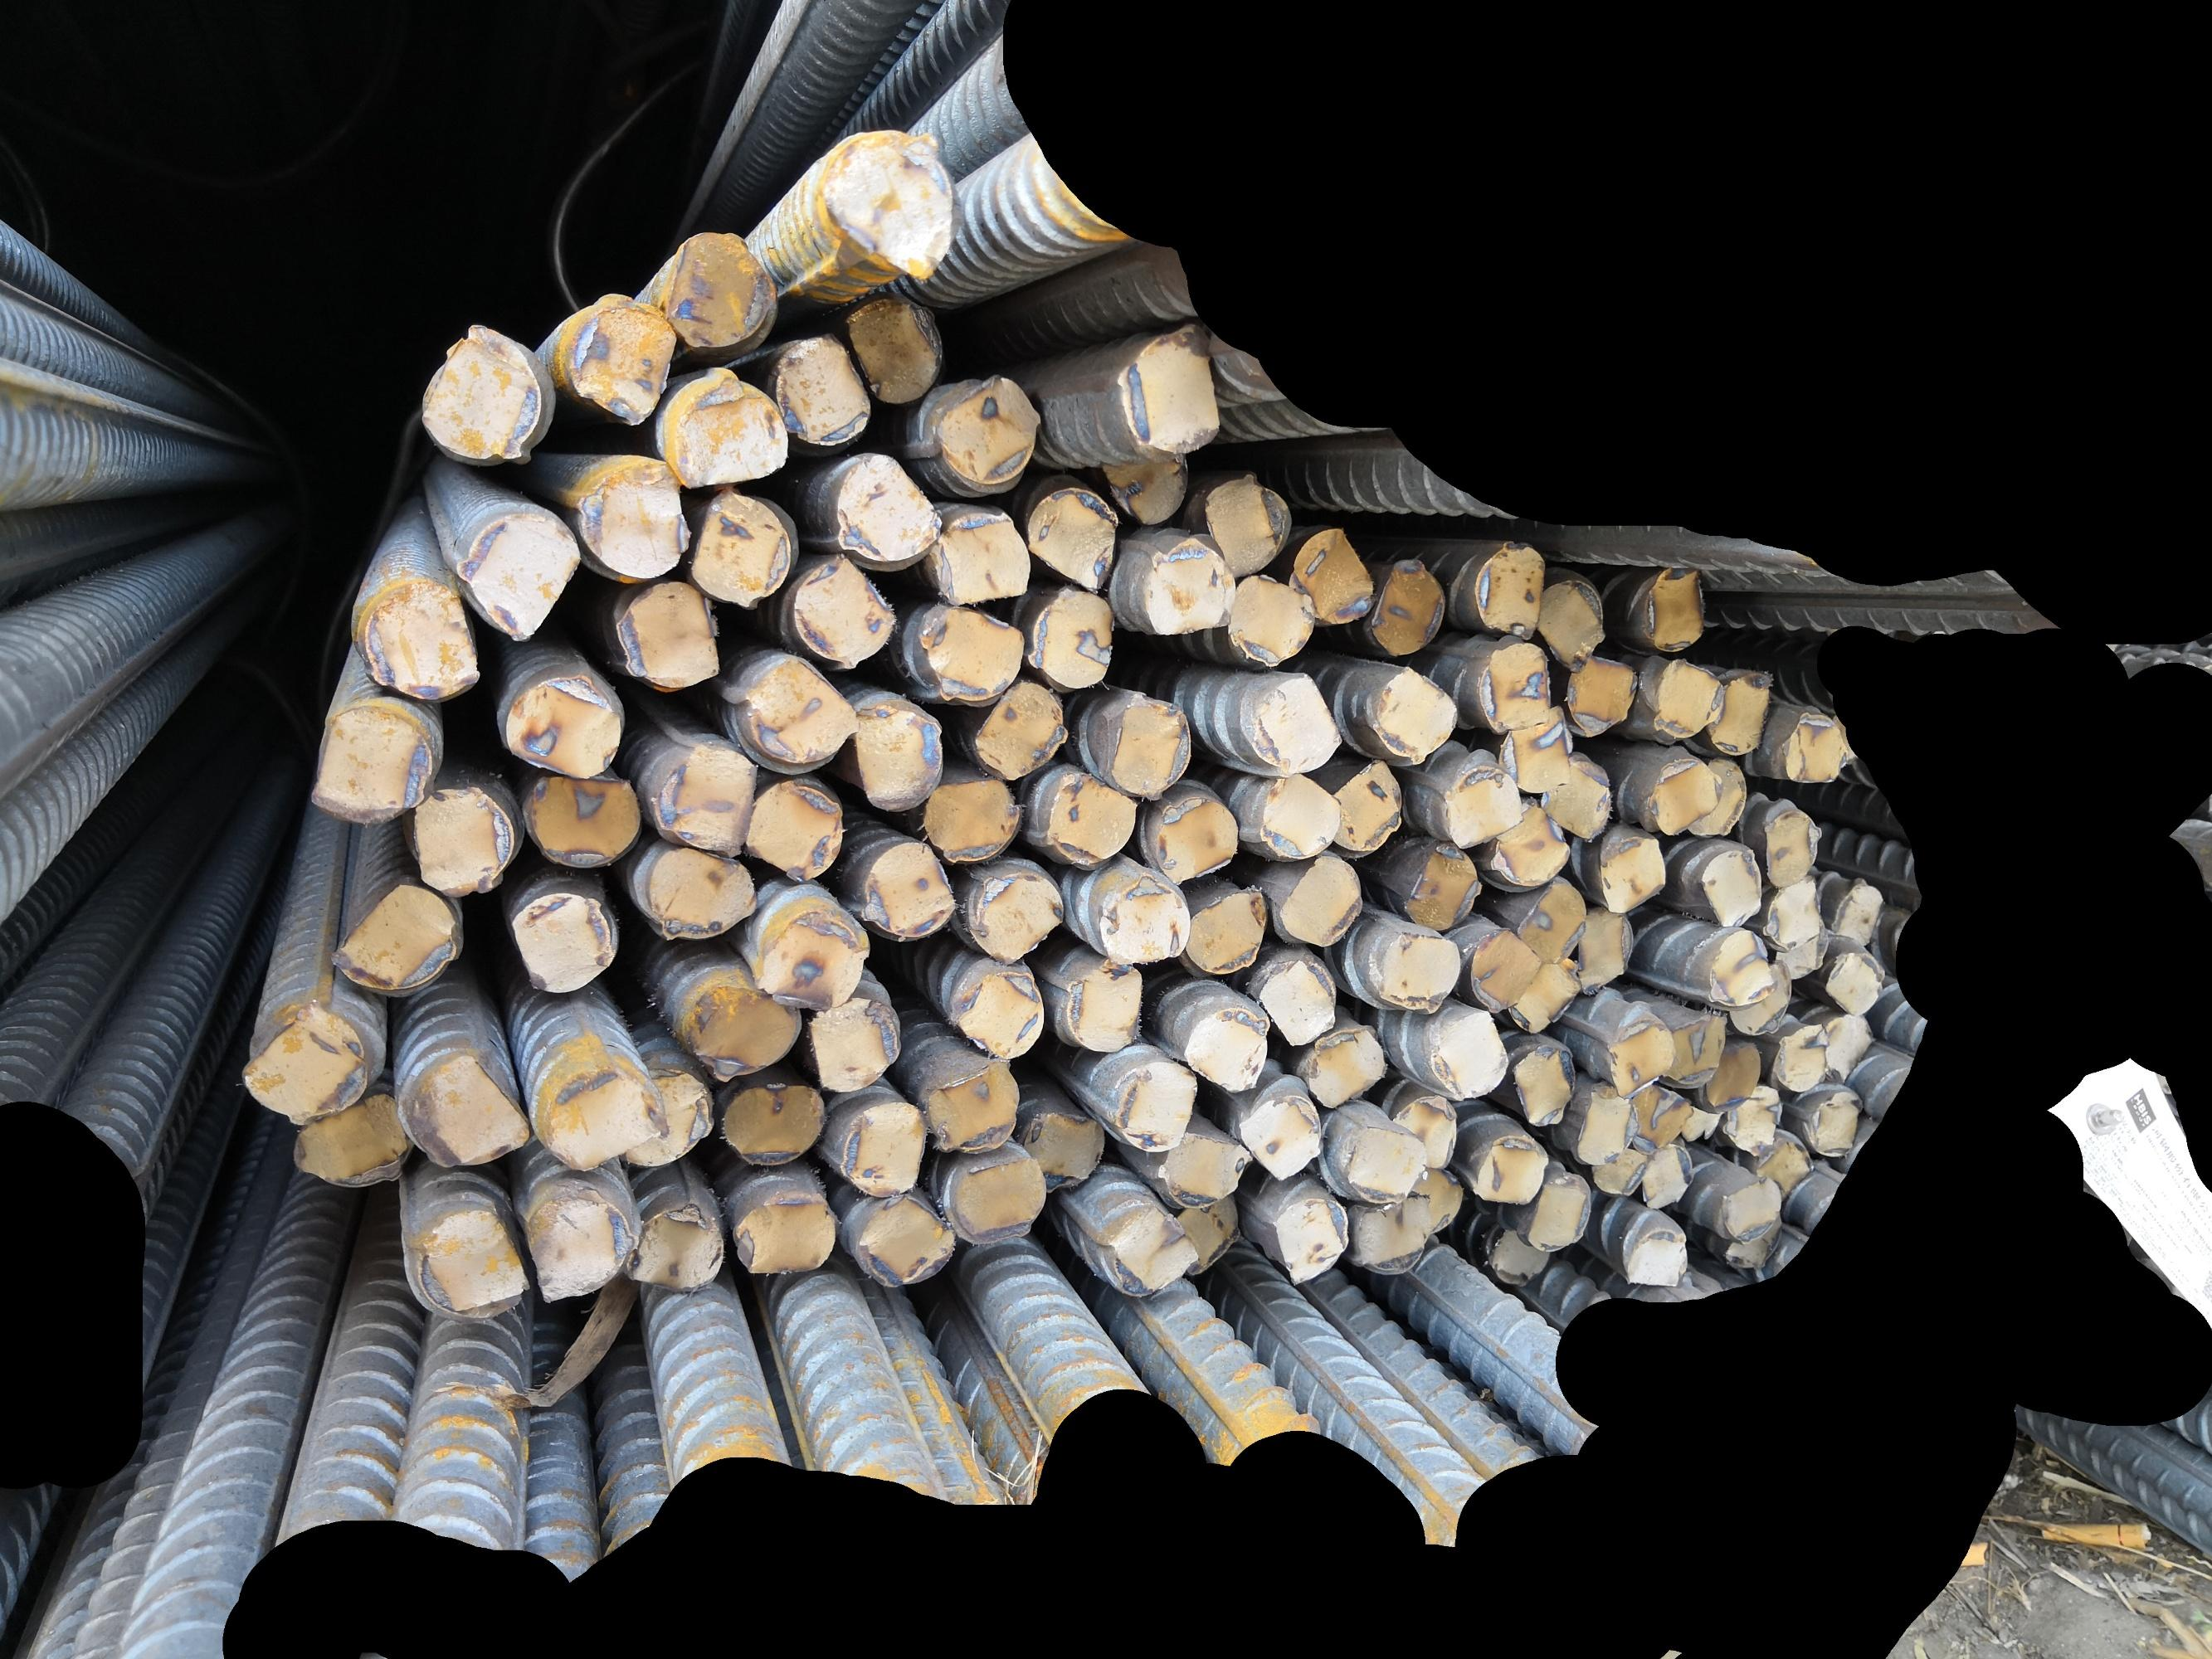bar: (824, 122, 957, 284), (416, 319, 544, 465), (447, 507, 585, 643), (650, 367, 794, 493), (387, 1056, 535, 1172), (235, 1003, 373, 1126), (537, 1057, 675, 1178), (402, 1199, 535, 1323), (728, 647, 861, 769), (306, 702, 436, 826), (1107, 324, 1230, 455), (568, 454, 694, 580), (495, 664, 626, 783), (324, 881, 460, 995), (359, 578, 485, 700), (820, 443, 946, 565), (668, 976, 806, 1087), (928, 362, 1045, 489), (572, 290, 680, 425), (744, 903, 874, 1015), (660, 228, 777, 350), (606, 572, 725, 691), (647, 730, 756, 859), (916, 591, 1031, 711), (687, 486, 794, 612), (785, 550, 900, 666), (847, 690, 951, 818), (637, 836, 761, 943), (919, 499, 1035, 612), (519, 765, 643, 868), (770, 323, 874, 445), (1196, 460, 1294, 589), (534, 1190, 638, 1309), (744, 766, 847, 887), (1031, 761, 1142, 872), (406, 786, 518, 896), (286, 1088, 416, 1183), (1236, 665, 1347, 776), (1021, 581, 1131, 691), (845, 1184, 960, 1289), (1089, 688, 1195, 803), (964, 674, 1073, 783), (503, 891, 617, 994), (1134, 532, 1240, 642), (714, 1074, 829, 1175), (938, 1141, 1050, 1243), (1023, 481, 1123, 594), (1098, 1052, 1204, 1157), (829, 1092, 931, 1201), (794, 995, 905, 1096), (859, 836, 961, 943), (1222, 562, 1322, 672), (1098, 1194, 1202, 1298), (1089, 869, 1195, 971), (843, 293, 938, 406), (1172, 999, 1274, 1101), (1362, 657, 1460, 762), (624, 1194, 726, 1296), (1144, 788, 1245, 888), (918, 1057, 1023, 1153), (918, 774, 1026, 868), (1365, 544, 1450, 660), (624, 1068, 721, 1170), (964, 870, 1066, 967), (1284, 519, 1376, 626), (949, 962, 1047, 1062), (1057, 948, 1147, 1057), (1177, 879, 1271, 980), (1255, 764, 1348, 864), (1227, 1095, 1328, 1184), (1372, 925, 1468, 1017), (732, 1192, 837, 1276), (1249, 955, 1342, 1049), (1014, 1098, 1107, 1192), (1274, 852, 1365, 948), (1104, 435, 1197, 528), (1153, 1125, 1256, 1209), (1469, 636, 1558, 733), (1394, 839, 1491, 928), (1322, 757, 1409, 855), (1336, 1117, 1429, 1209), (1293, 1023, 1389, 1111), (1160, 1185, 1245, 1285), (1471, 533, 1546, 646), (1264, 1194, 1352, 1288), (1421, 1008, 1509, 1101), (1488, 796, 1575, 890), (1436, 761, 1526, 850), (1529, 574, 1606, 674), (1464, 919, 1544, 1014), (1352, 1190, 1437, 1277), (1499, 704, 1578, 797), (1644, 750, 1727, 839), (1638, 554, 1709, 654), (1535, 756, 1618, 842), (1590, 829, 1671, 916), (1516, 868, 1588, 966), (1560, 653, 1639, 742), (1705, 652, 1771, 756), (1508, 1036, 1577, 1134), (1651, 655, 1727, 744), (1599, 1016, 1680, 1098), (1703, 924, 1780, 1011), (1388, 1081, 1459, 1174), (1566, 1081, 1644, 1166), (1469, 1127, 1551, 1207), (1571, 902, 1635, 997), (1659, 1004, 1730, 1090), (1625, 1076, 1697, 1158), (1686, 750, 1751, 840), (1501, 959, 1581, 1031), (1756, 804, 1824, 889), (1693, 844, 1761, 930), (1720, 1074, 1786, 1159), (1782, 705, 1850, 787), (1523, 1174, 1591, 1257), (1398, 1159, 1468, 1238), (1712, 1175, 1791, 1244), (1770, 1014, 1835, 1097), (1814, 1000, 1876, 1087), (1747, 1134, 1819, 1207), (1729, 958, 1794, 1038), (1828, 866, 1888, 948), (1823, 941, 1888, 1016), (1700, 1039, 1764, 1114), (1764, 873, 1827, 949), (1620, 1224, 1690, 1291), (1804, 1087, 1867, 1161), (1488, 1219, 1558, 1286), (1639, 1136, 1695, 1212), (1717, 1215, 1792, 1272), (1586, 1137, 1650, 1201), (1770, 921, 1835, 981), (1677, 1096, 1726, 1145)
